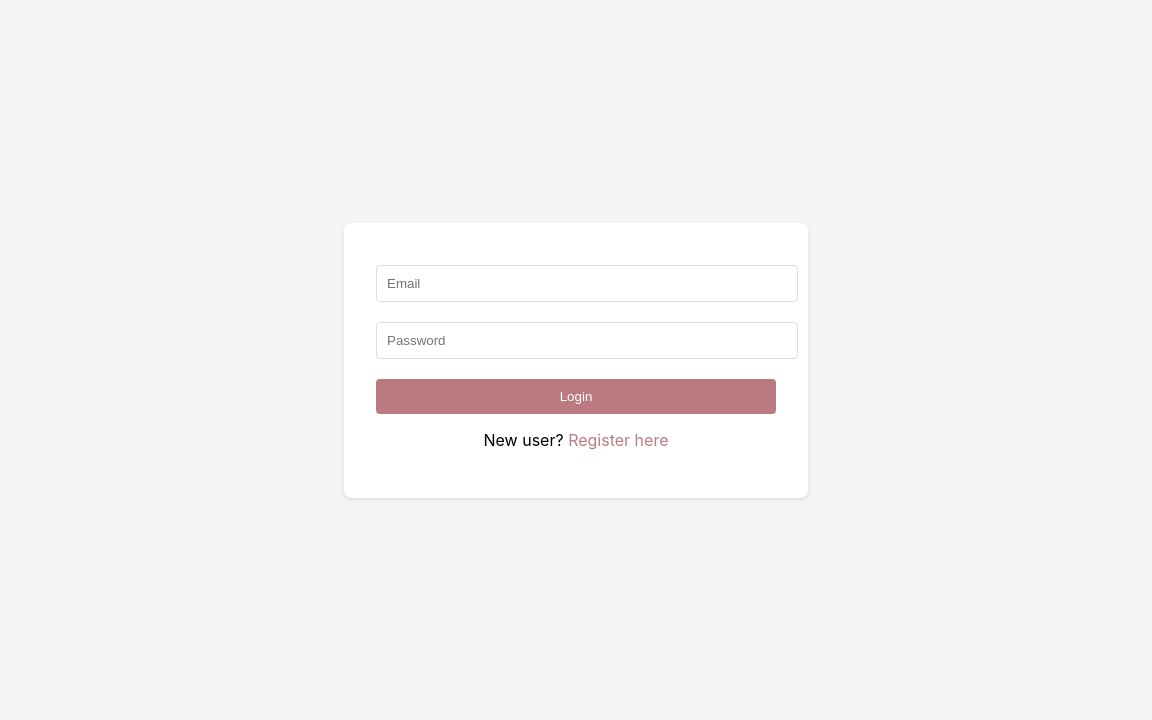
App Component › handles successful login
Simulation of user interaction for logging in
Type "test@example.com" into the field with placeholder "Email" at (587, 283), box [376,264,798,302]
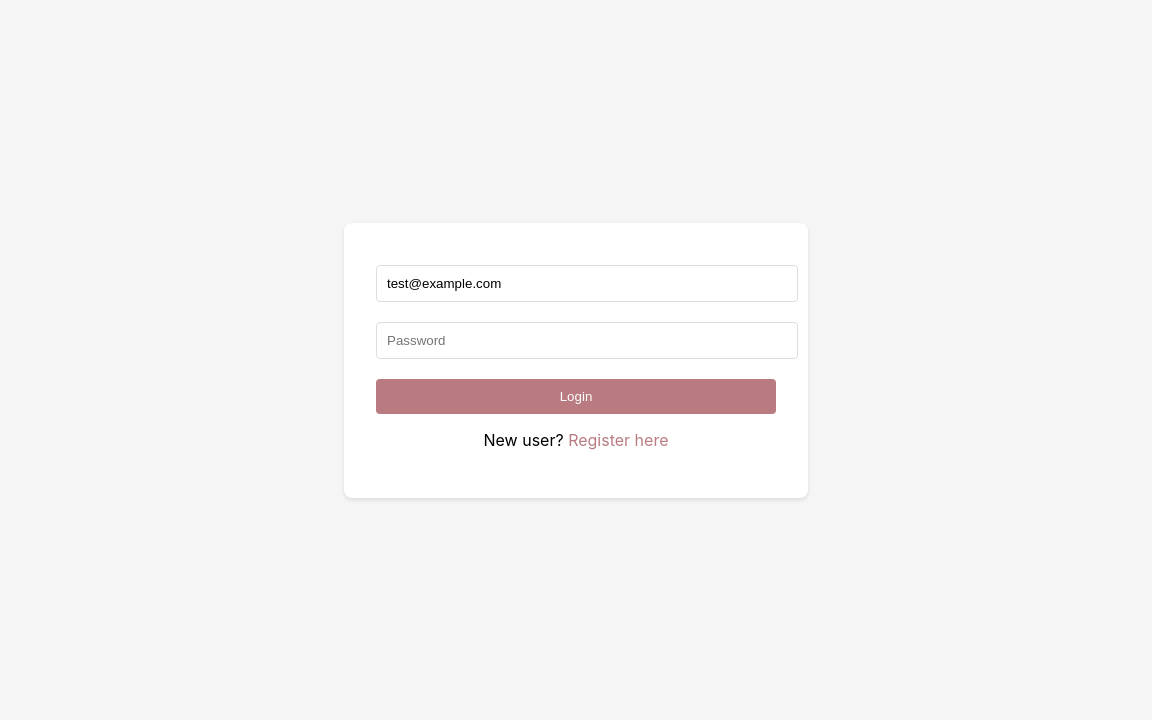
Type "password123" into the password field with placeholder "Password" at (587, 340), box [376,322,798,358]
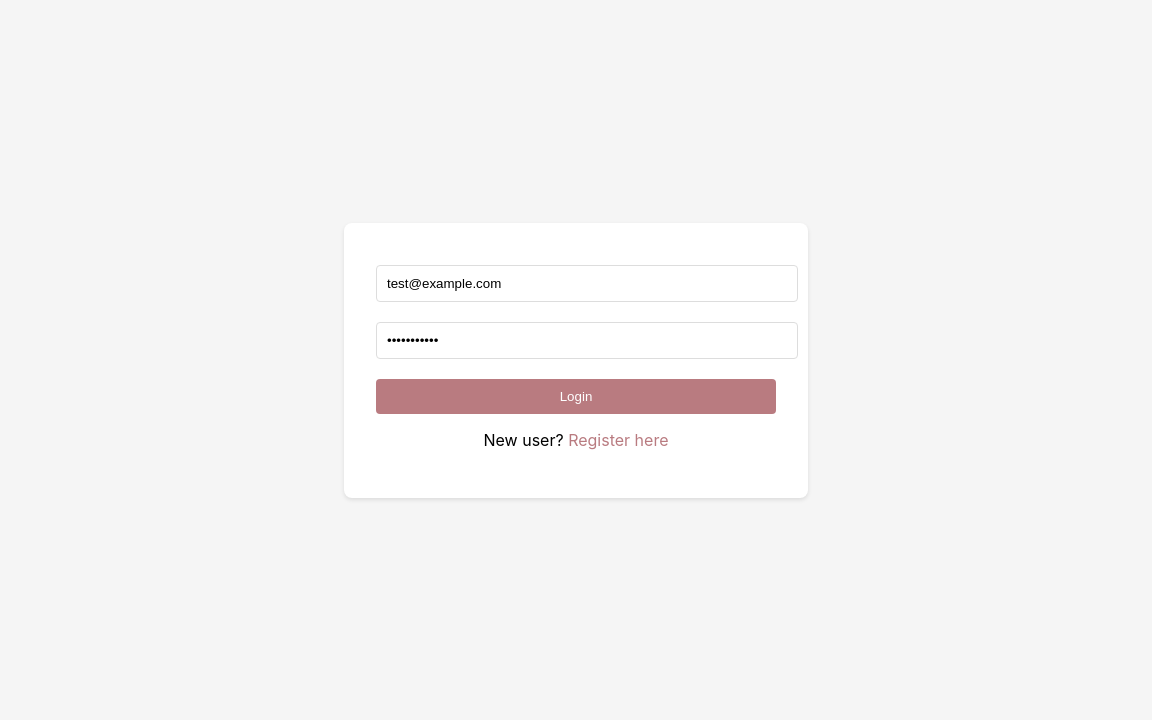
Click the button "Login" at (576, 396), box [376,378,776,414]
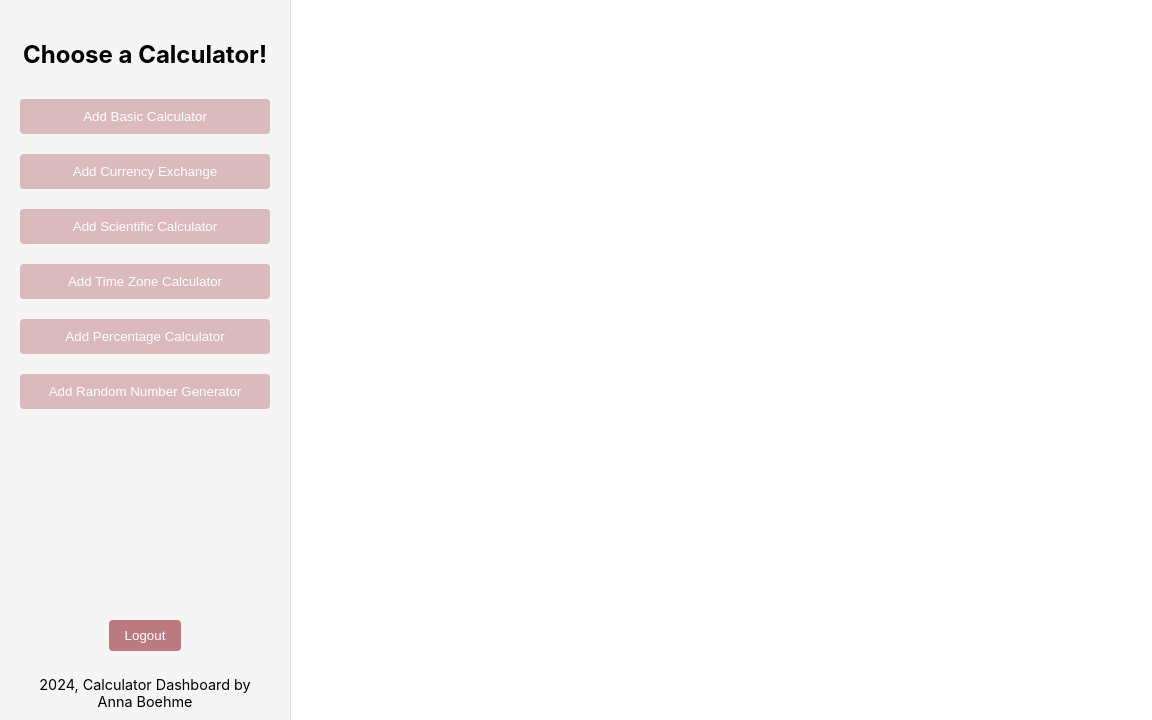
expect the heading "Choose a Calculator!" is shown: met, box [20,40,270,69]
